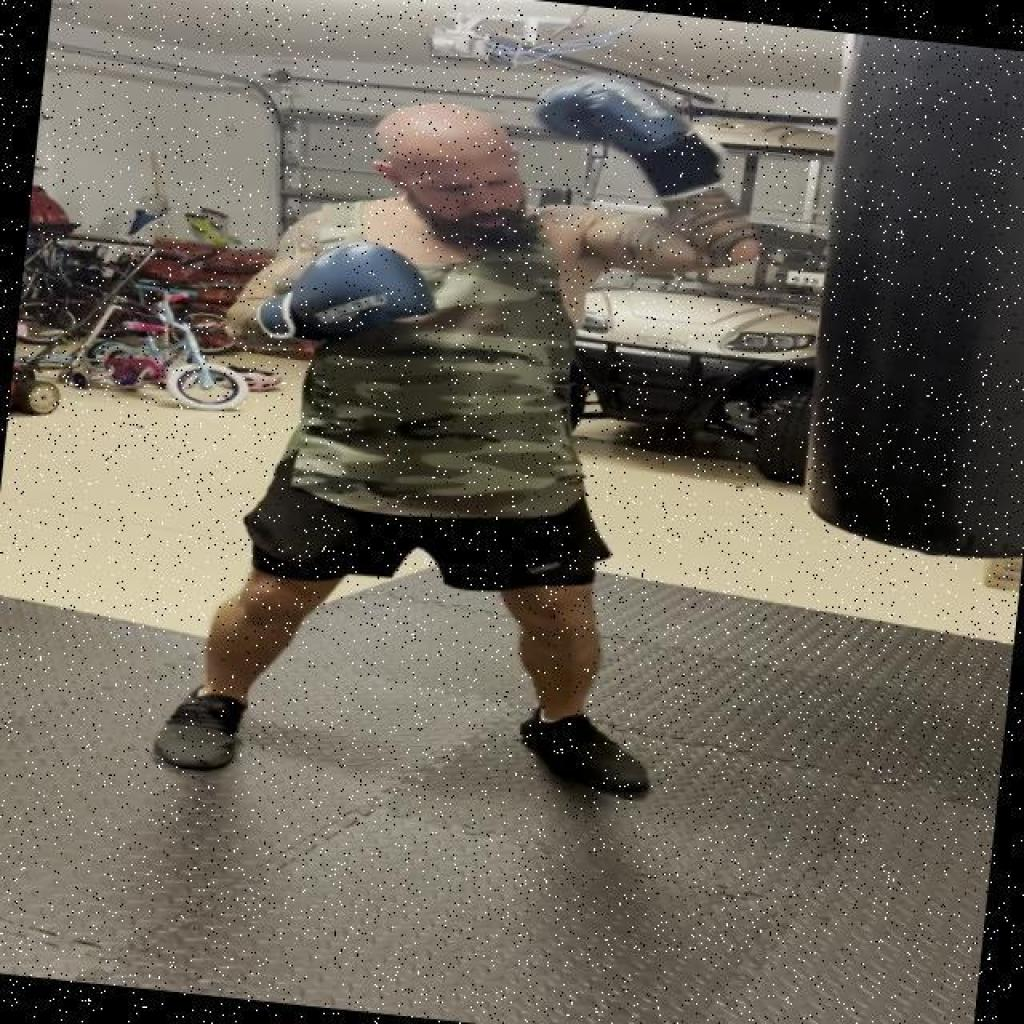bag: (776, 30, 1024, 573)
uppercut: (234, 34, 792, 396)
